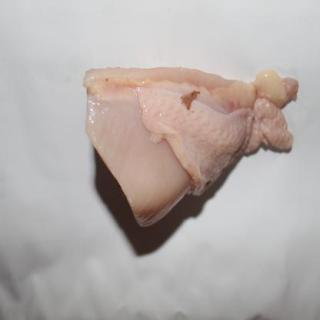Ayam: (83, 66, 300, 228)
